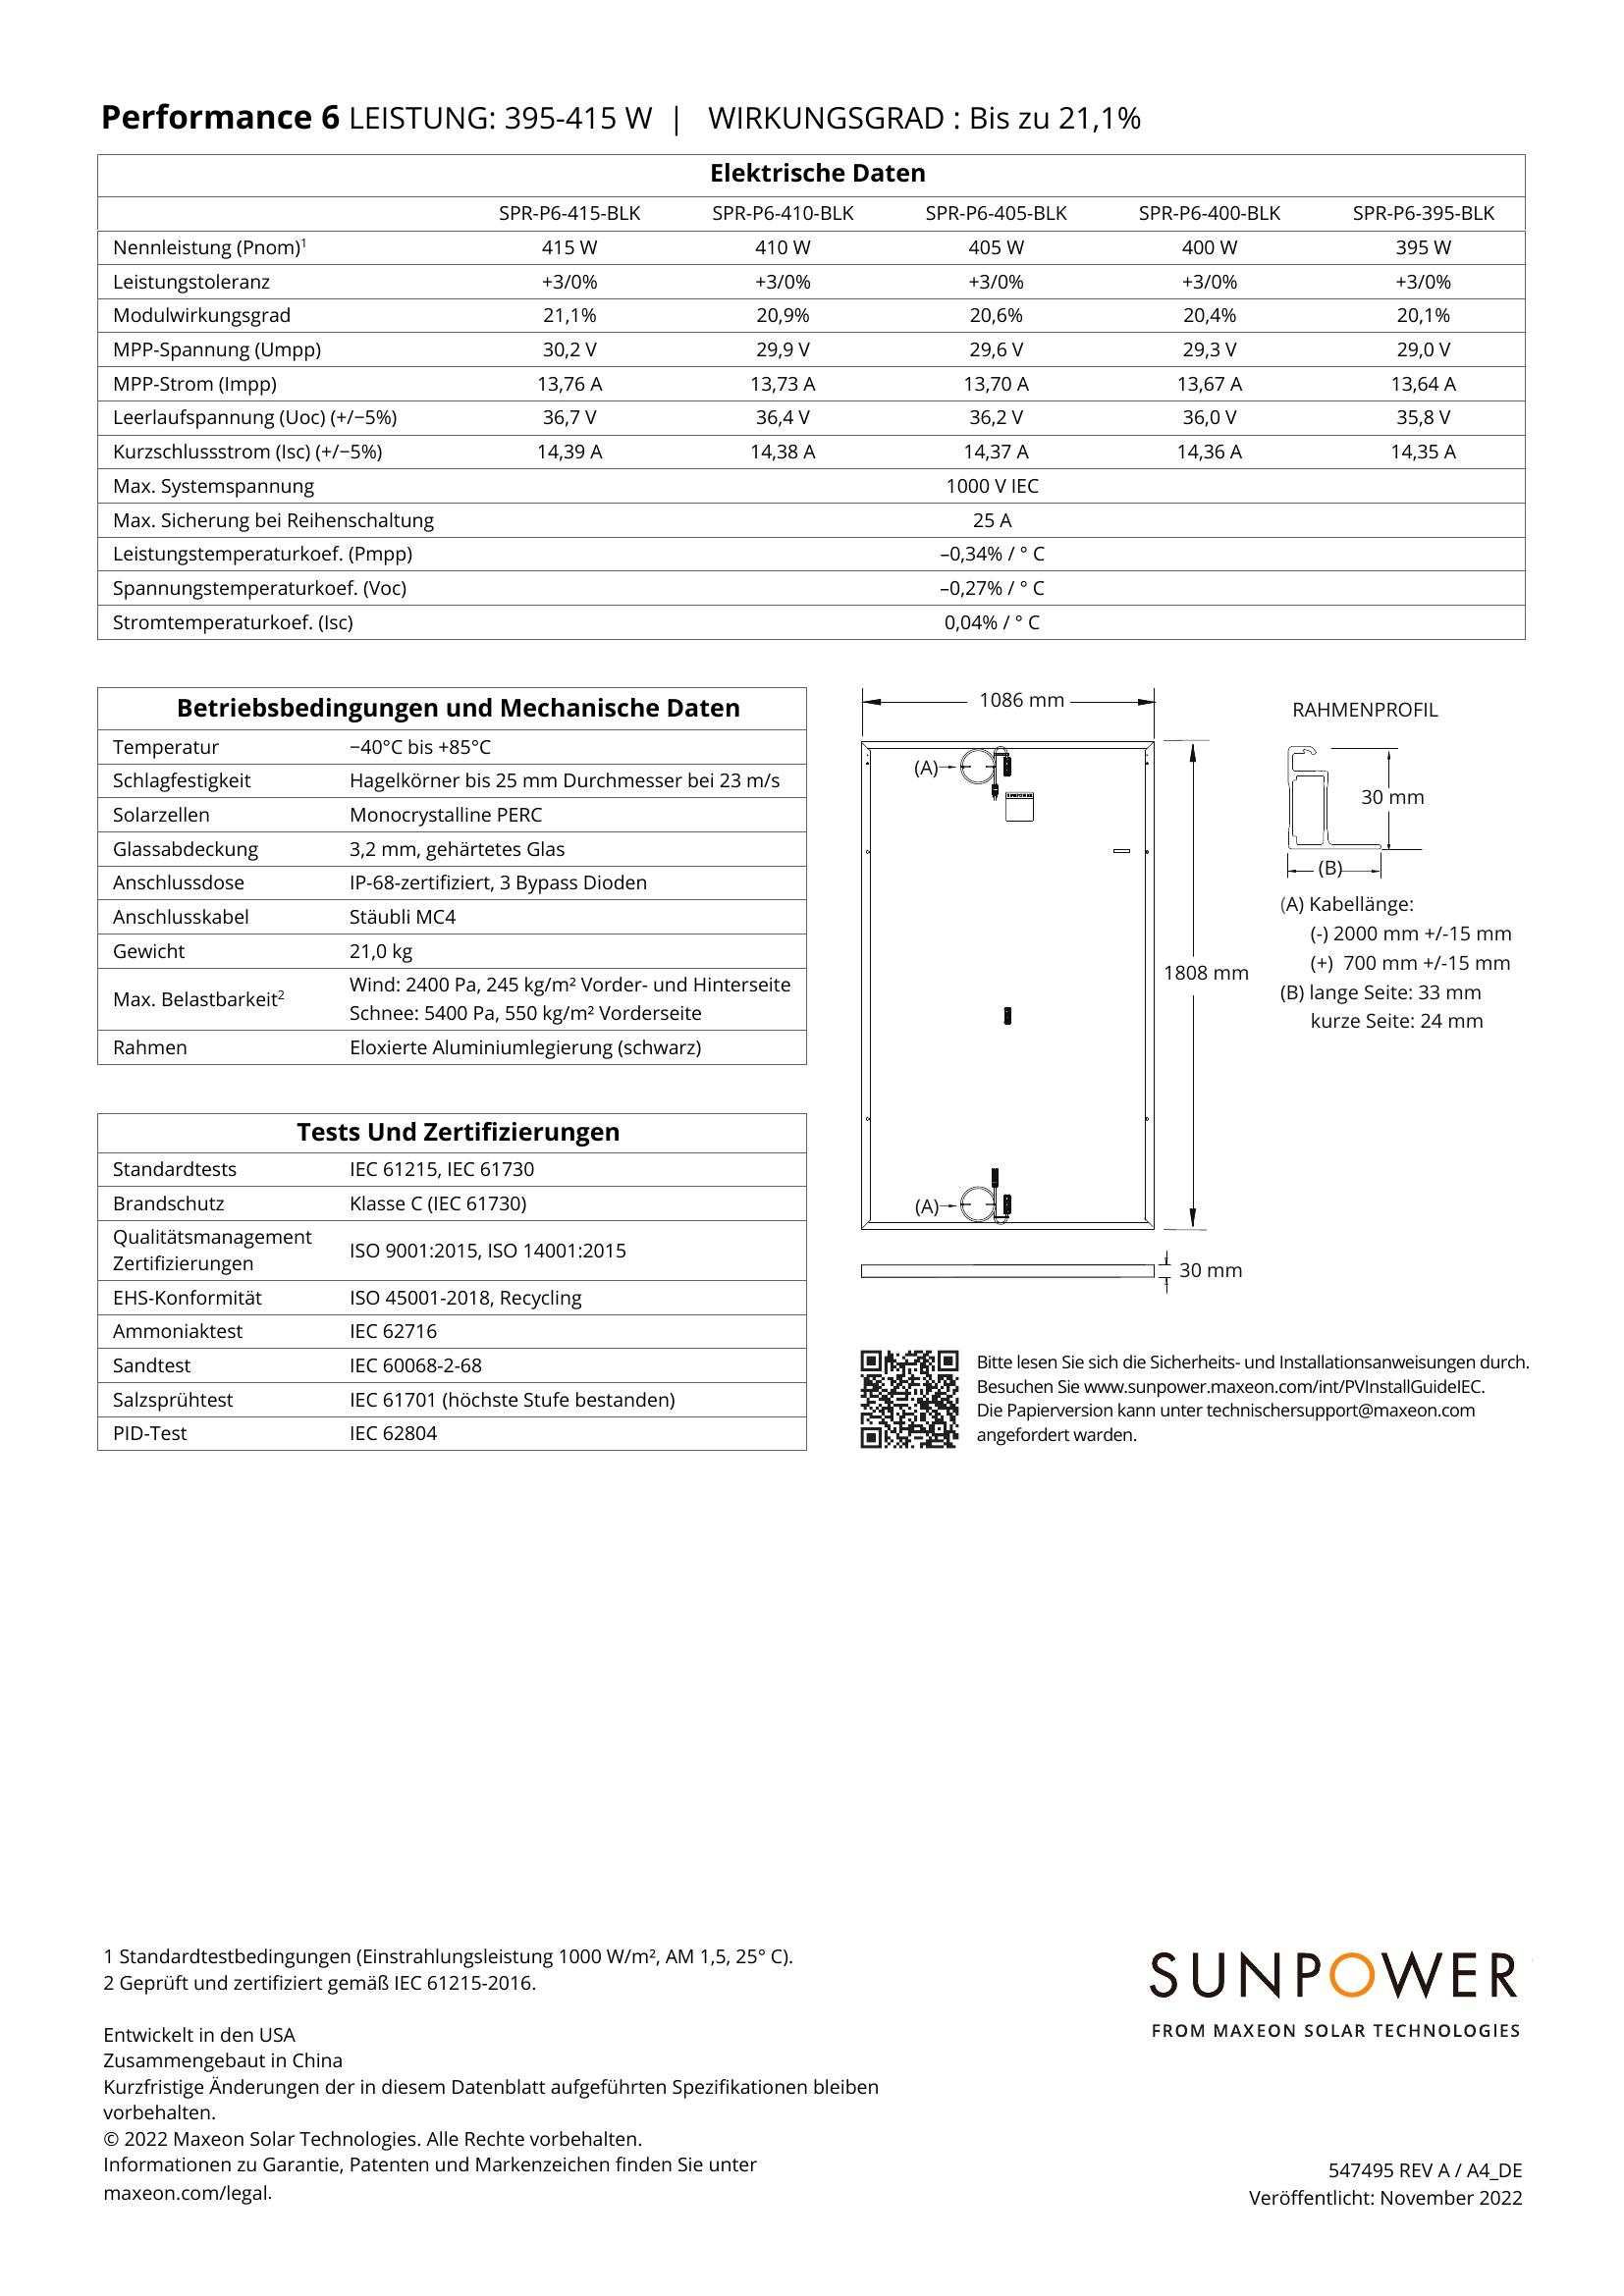table: (81, 141, 1545, 657), (88, 678, 831, 1075), (83, 1100, 824, 1465)
